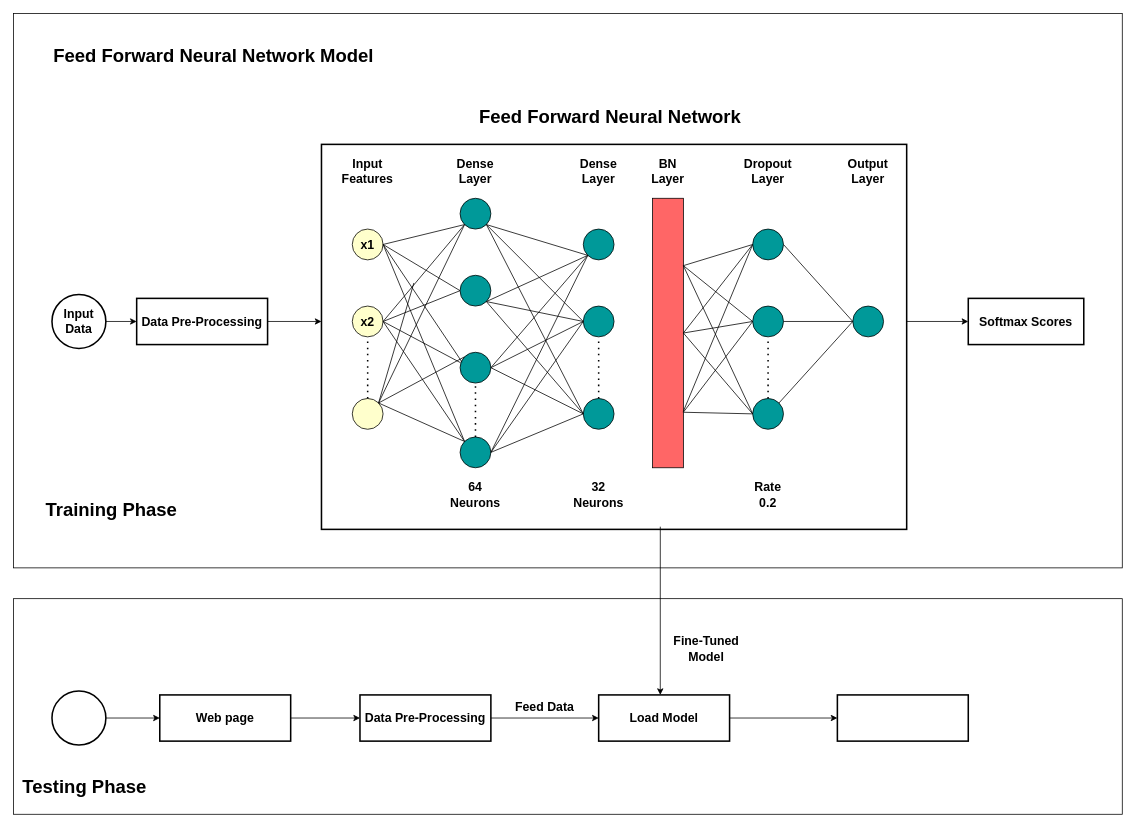
The diagram is 1136 pixels wide and 828 high, and some of its shapes have lost their labels. Here are the shapes that lost their labels. From the top down, the box of each, then its label:
(652, 198, 683, 468): Normalize the Outputs
(352, 398, 383, 429): xn
(51, 690, 106, 745): User Input
(836, 694, 969, 742): Recommendation
